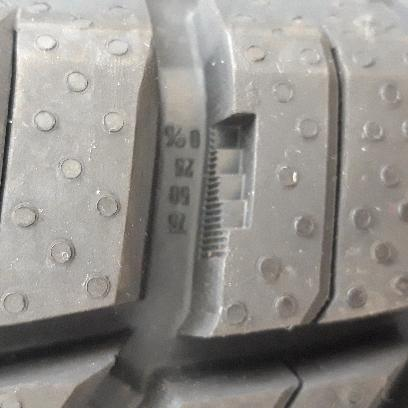temoin:100: (194, 110, 262, 261)
